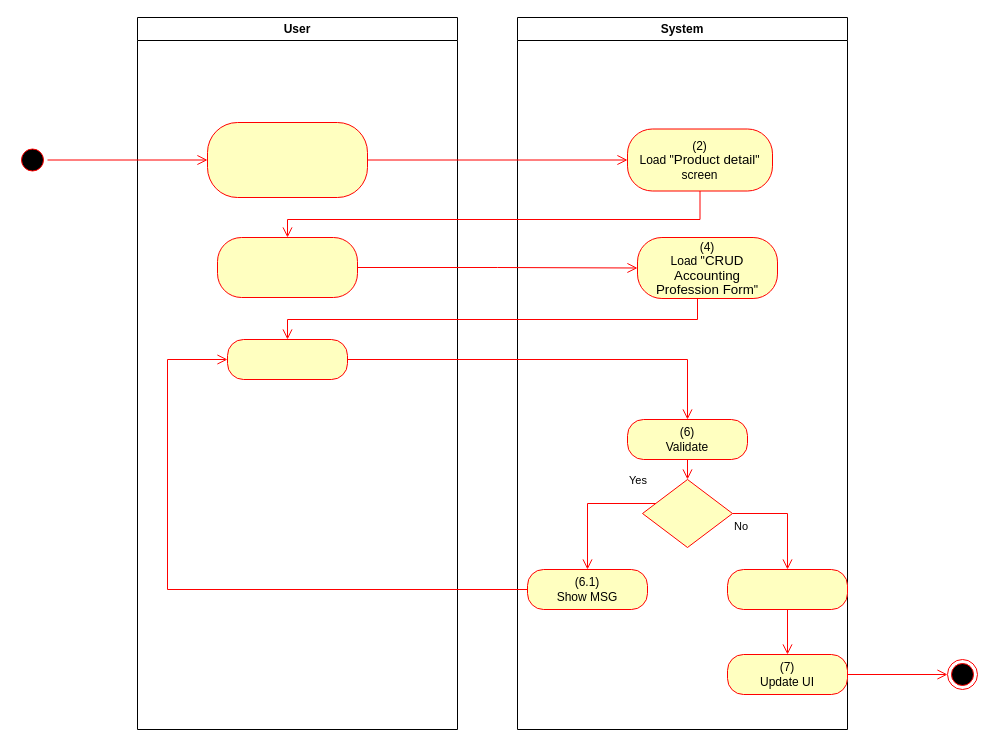
Image size: 995x747. Some labels were removed from this diagram. Each missing label, with the centre of its shape:
(1) On " List Product (customer) " click " Đi đến giỏ hàng ": (287,160)
(3) Click button "Chỉnh sửa" trên 1 item nghiệp vụ bất kỳ: (287,267)
(5) Giving input: (287,359)
(6.2) Push new Advertising to DB: (787,589)
